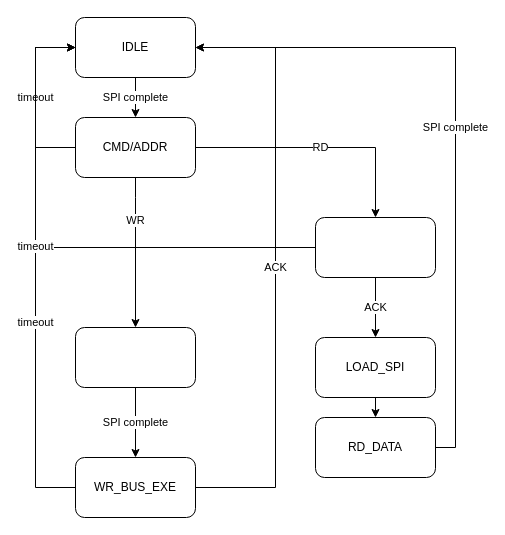
Image size: 505x535. Some labels were removed from this diagram. Each missing label, with the box of its shape:
RD_BUS_EXE: (314, 216, 436, 278)
WR_DATA: (74, 326, 196, 388)
